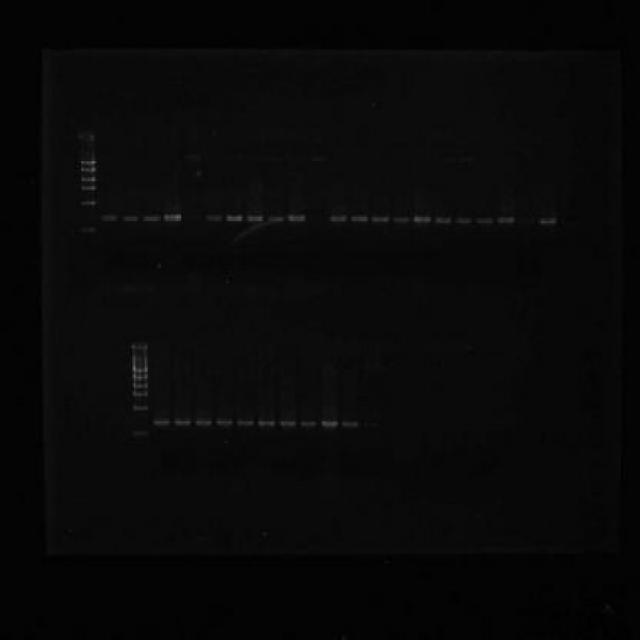B: (318, 417, 340, 428), (298, 418, 320, 428), (194, 416, 213, 427), (214, 417, 233, 428), (236, 417, 255, 428), (172, 418, 194, 427), (278, 417, 296, 428), (258, 417, 276, 428), (340, 418, 358, 429), (245, 213, 264, 222), (100, 213, 118, 222), (392, 216, 412, 224), (474, 217, 494, 225), (163, 213, 182, 221), (225, 214, 244, 222), (413, 215, 432, 223), (538, 217, 557, 225), (153, 418, 172, 426), (372, 215, 390, 223), (497, 216, 515, 224), (434, 216, 452, 224), (120, 215, 140, 222), (350, 215, 370, 222), (142, 215, 161, 222), (206, 214, 222, 222), (288, 214, 304, 222), (456, 217, 472, 225), (330, 215, 348, 222), (266, 216, 286, 222)
M: (127, 356, 153, 442), (75, 152, 100, 236)
P: (130, 429, 150, 437), (132, 404, 150, 412), (132, 365, 150, 373), (80, 199, 97, 207), (79, 175, 96, 183), (79, 165, 96, 173), (80, 157, 97, 165), (132, 389, 148, 397), (132, 372, 148, 380), (80, 226, 96, 234), (132, 381, 148, 388), (80, 184, 97, 190)
Pc: (130, 341, 150, 354), (77, 129, 96, 142)
